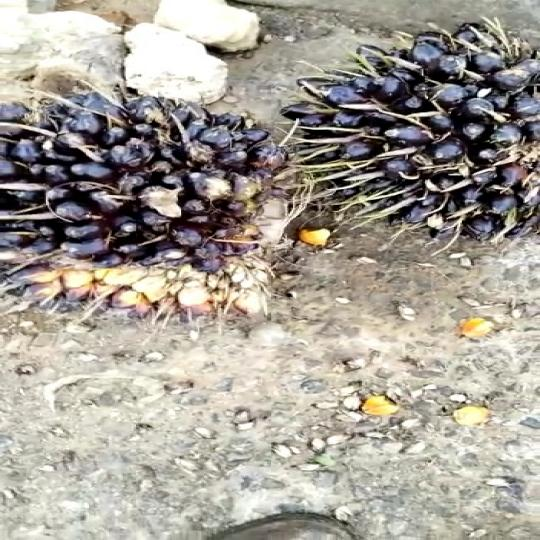mentah: (0, 73, 320, 328), (289, 21, 540, 251)
